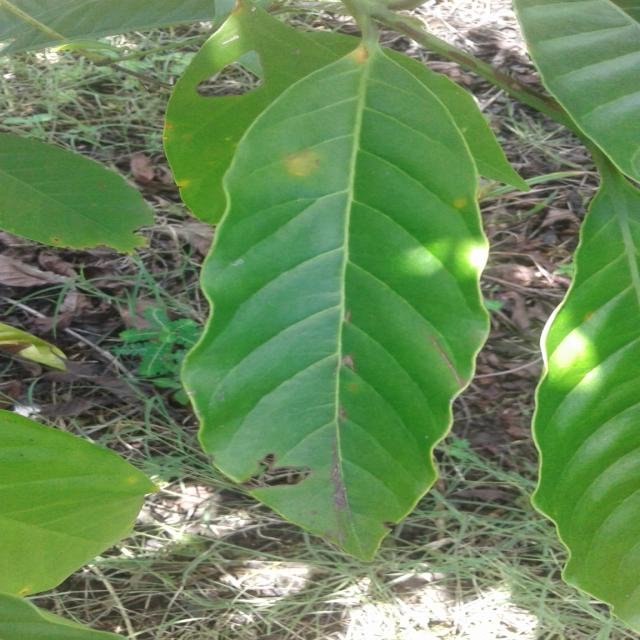Enfermedad-Roya: (181, 39, 525, 562)
